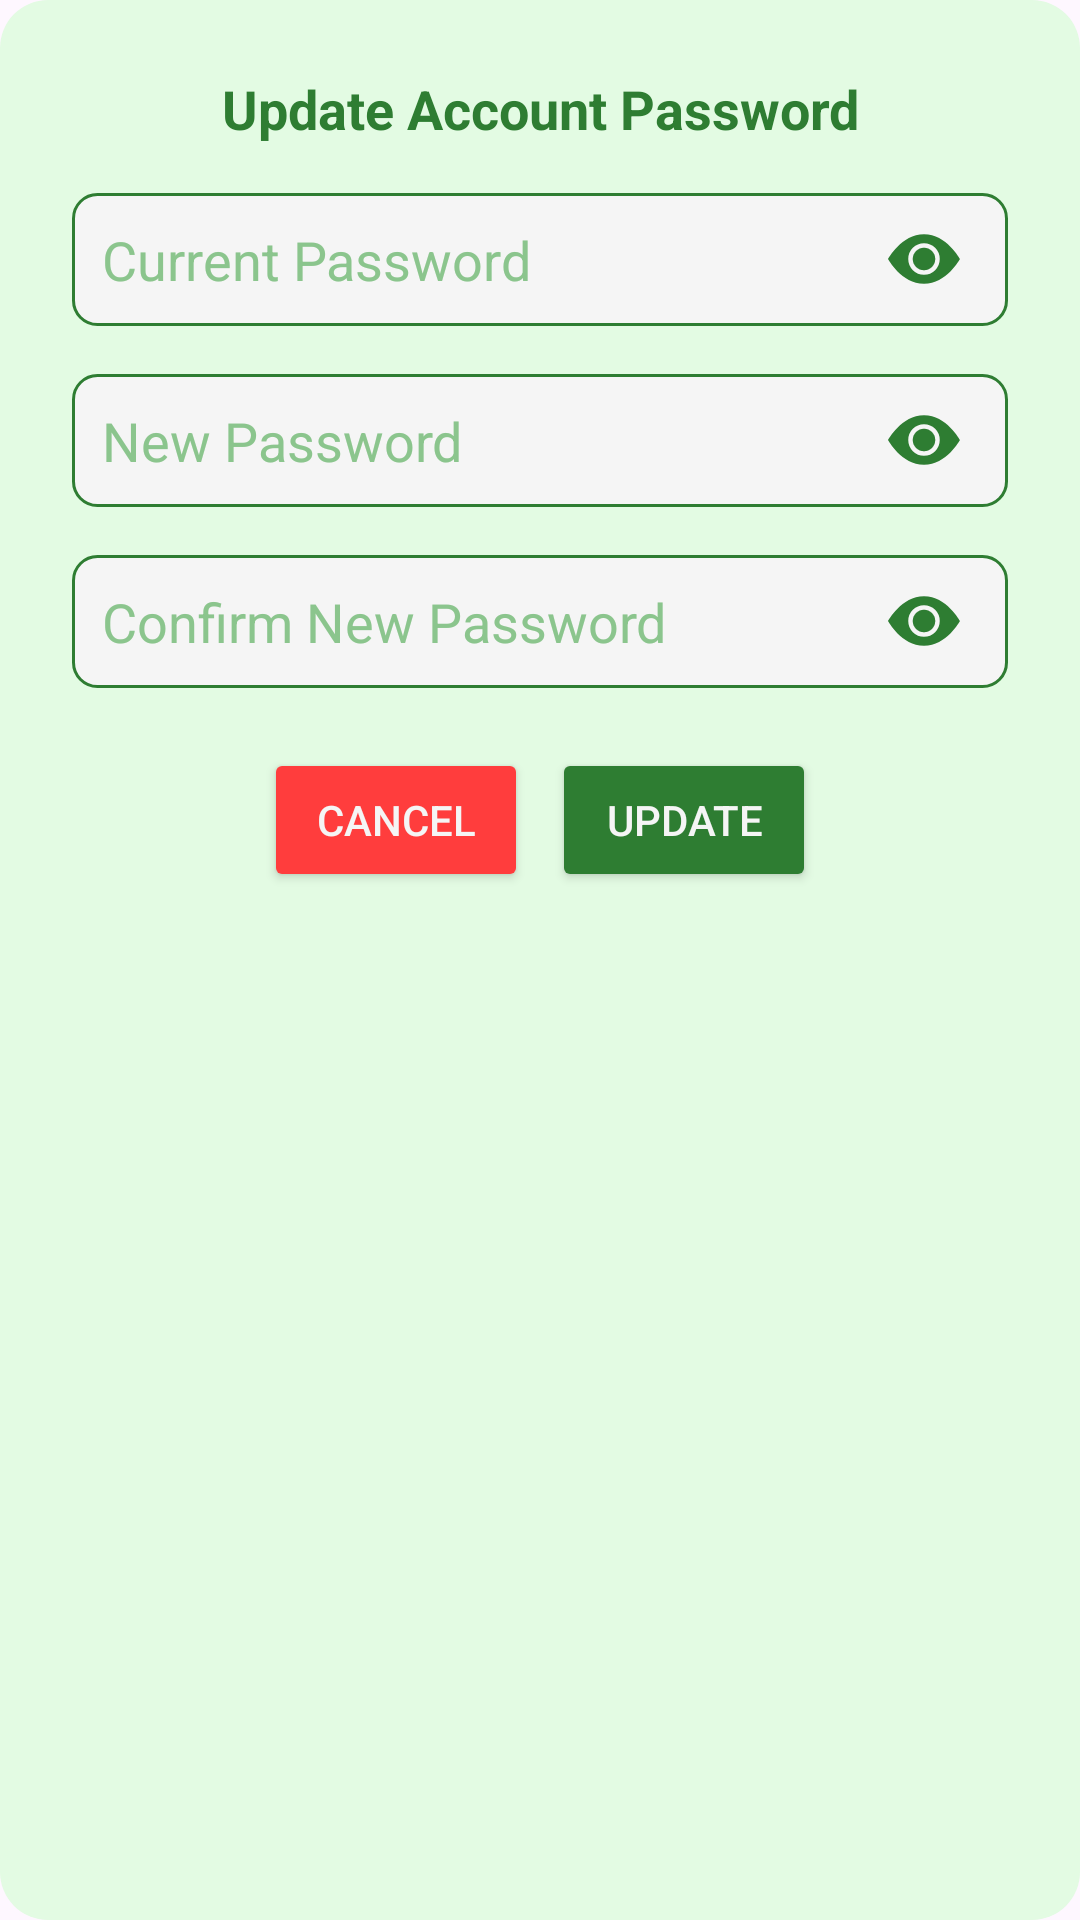

Point at icon controls on the screen. Image size 1080x1920, points as [x,y].
show: [924,259], [924,440], [924,621]
